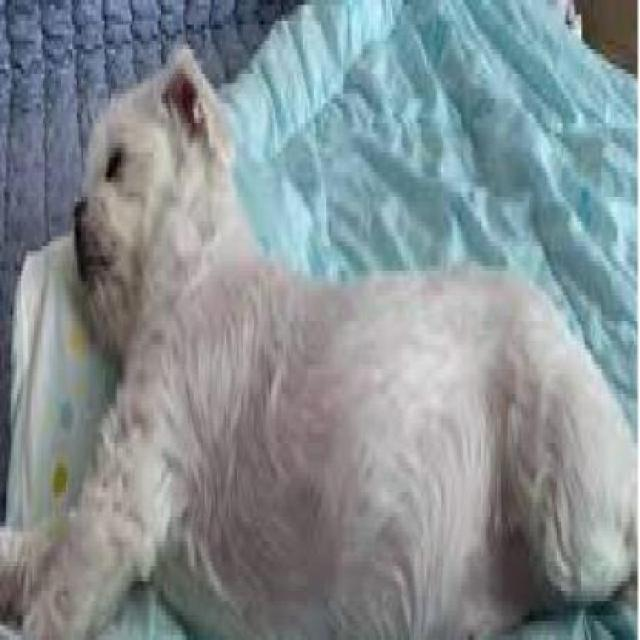Dog: (4, 40, 638, 635)
